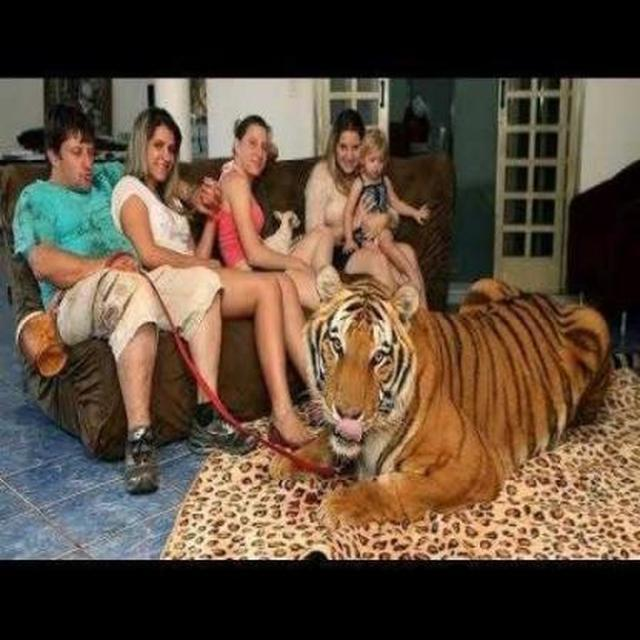tiger: (291, 264, 613, 531), (261, 208, 301, 255)
